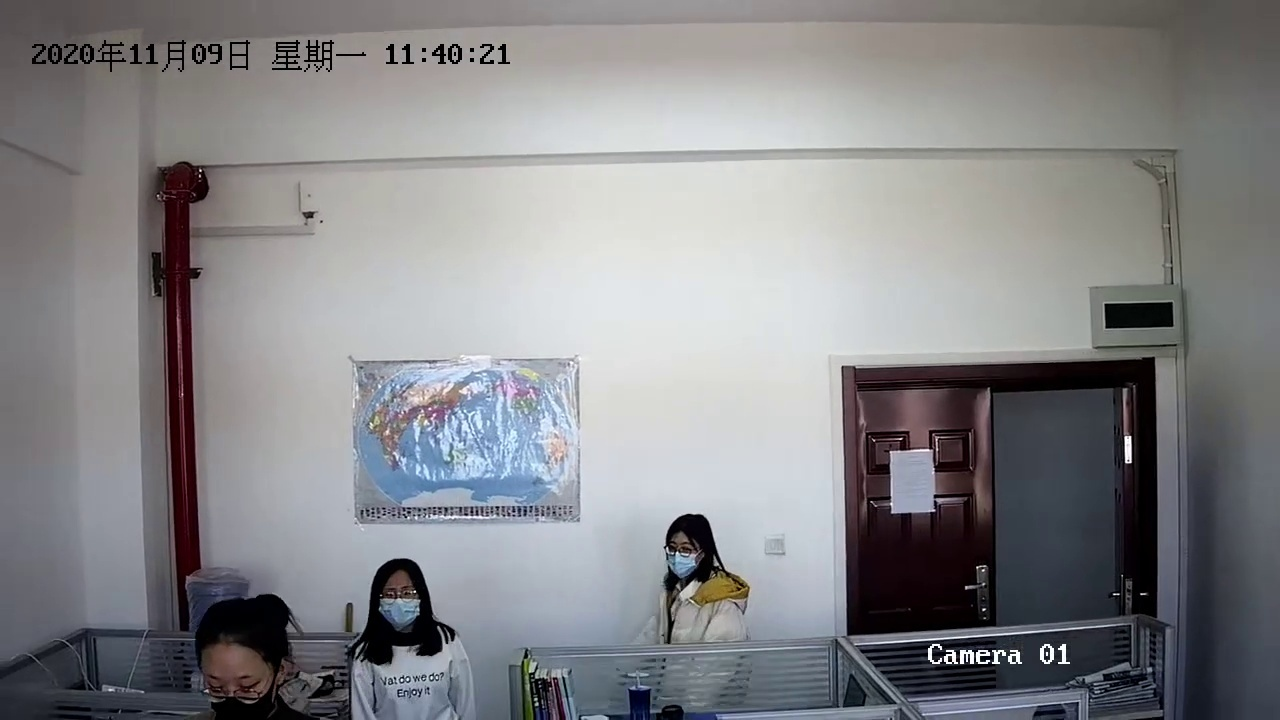mask: (197, 616, 291, 720), (369, 563, 426, 636), (661, 510, 712, 582)
